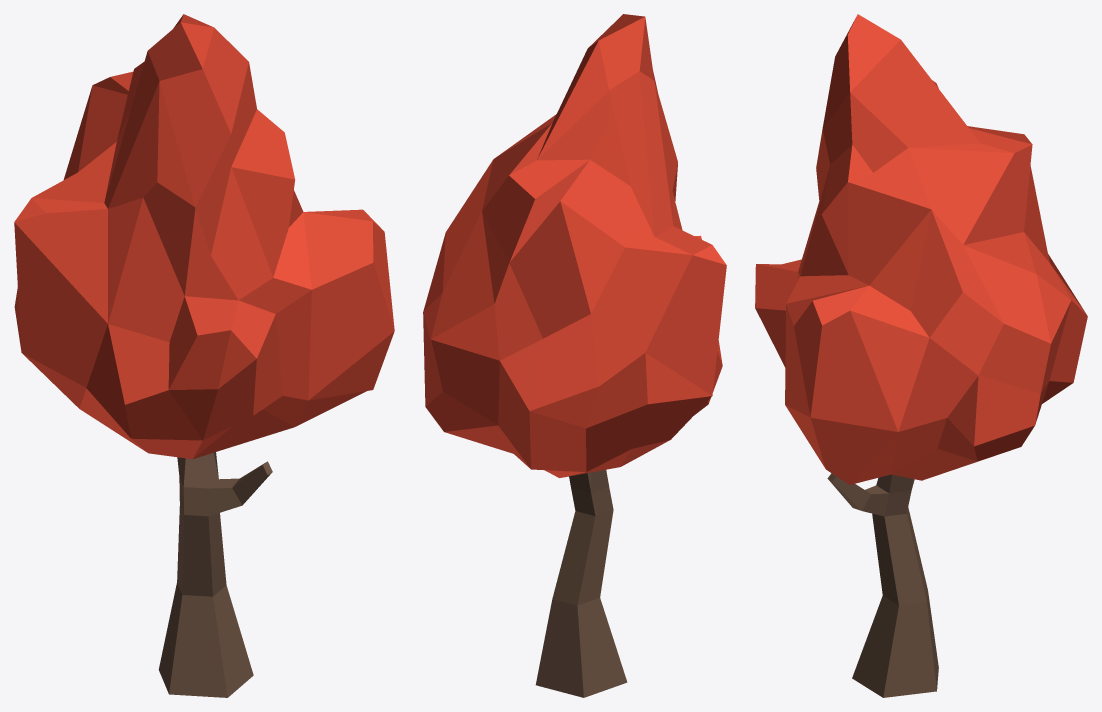
File: Dhongse.FBX
3 views of the same model, side by side, from view 1: azimuth 30°, elevation 25°; view 2: azimuth 150°, elevation 25°; view 3: azimuth 270°, elevation 25° (orthographic). The views are drawn at different scales.
Visible parts, largest first — view 1: 对象004; view 2: 对象004; view 3: 对象004.
Boxes of the visible parts, <box> form: 对象004: <box>14,14,394,697</box>; 对象004: <box>423,14,726,697</box>; 对象004: <box>755,14,1087,697</box>.
Size of the model in its own units: 32.4 by 66.16 by 30.98.
